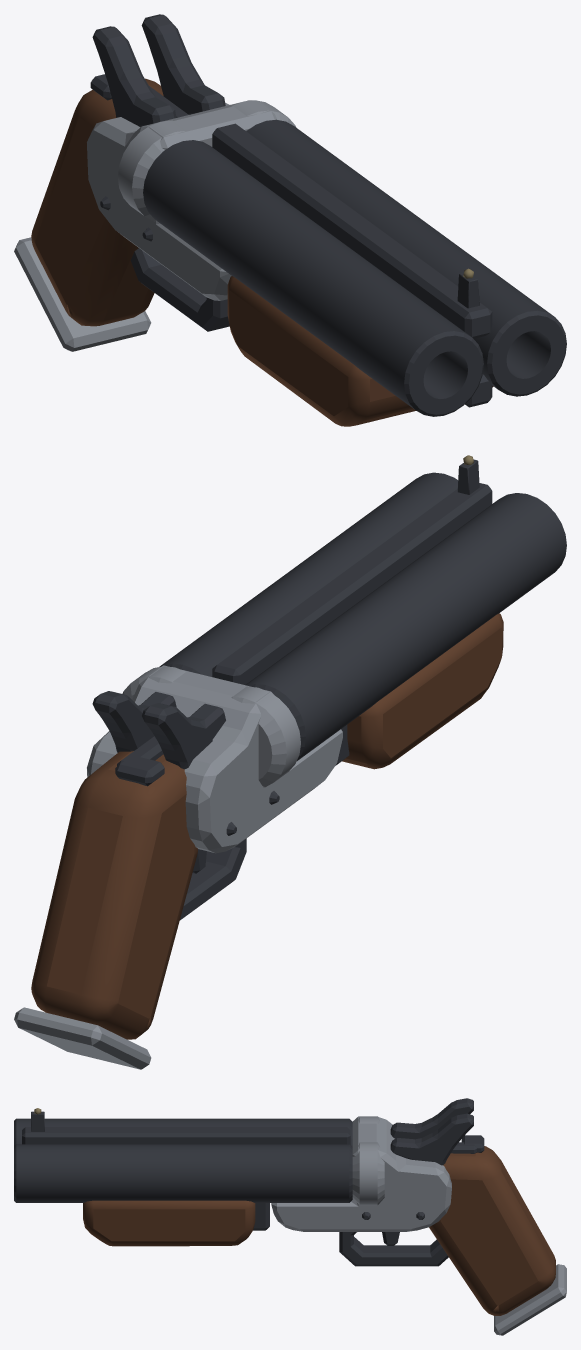
File: w_sawnoff@sawnoff_classic.glb
3 renders of one model, top to bottom at view 1: azimuth 30°, elevation 25°; view 2: azimuth 150°, elevation 25°; view 3: azimuth 270°, elevation 25°, orthographic. The views are drawn at different scales.
Parts seen in each view (by area): view 1: hinge_wzB__blue__p34373e, grip_wzA__wood__p5c3c29, body_wzB__silver__p858a92, forend_wzA__wood__p5c3c29, hammerR_wzN__blue__p34373e, hammerL_wzN__blue__p34373e, grip_wzN__silver__p858a92, body_wzN__blue__p34373e, body_wzB__blue__p34373e; view 2: hinge_wzB__blue__p34373e, grip_wzA__wood__p5c3c29, body_wzB__silver__p858a92, forend_wzA__wood__p5c3c29, grip_wzN__silver__p858a92, hammerR_wzN__blue__p34373e, body_wzN__blue__p34373e, hammerL_wzN__blue__p34373e, body_wzB__blue__p34373e; view 3: hinge_wzB__blue__p34373e, grip_wzA__wood__p5c3c29, body_wzB__silver__p858a92, forend_wzA__wood__p5c3c29, body_wzN__blue__p34373e, hammerL_wzN__blue__p34373e, grip_wzN__silver__p858a92, hammerR_wzN__blue__p34373e, body_wzB__blue__p34373e, forend_iron_wzN__blue__p34373e.
Boxes of the visible parts, x1=… form: hinge_wzB__blue__p34373e: x1=143, y1=119, x2=566, y2=416; grip_wzA__wood__p5c3c29: x1=31, y1=78, x2=163, y2=326; body_wzB__silver__p858a92: x1=87, y1=100, x2=296, y2=300; forend_wzA__wood__p5c3c29: x1=227, y1=276, x2=493, y2=426; hammerR_wzN__blue__p34373e: x1=92, y1=26, x2=176, y2=127; hammerL_wzN__blue__p34373e: x1=141, y1=14, x2=225, y2=114; grip_wzN__silver__p858a92: x1=14, y1=237, x2=151, y2=351; body_wzN__blue__p34373e: x1=100, y1=196, x2=229, y2=331; body_wzB__blue__p34373e: x1=90, y1=74, x2=188, y2=117; hinge_wzB__blue__p34373e: x1=159, y1=459, x2=566, y2=760; grip_wzA__wood__p5c3c29: x1=31, y1=751, x2=197, y2=1039; body_wzB__silver__p858a92: x1=87, y1=665, x2=342, y2=853; forend_wzA__wood__p5c3c29: x1=342, y1=613, x2=503, y2=769; grip_wzN__silver__p858a92: x1=14, y1=1007, x2=151, y2=1069; hammerR_wzN__blue__p34373e: x1=142, y1=703, x2=225, y2=769; body_wzN__blue__p34373e: x1=179, y1=791, x2=279, y2=920; hammerL_wzN__blue__p34373e: x1=92, y1=691, x2=176, y2=752; body_wzB__blue__p34373e: x1=115, y1=736, x2=164, y2=786; hinge_wzB__blue__p34373e: x1=14, y1=1111, x2=352, y2=1202; grip_wzA__wood__p5c3c29: x1=429, y1=1146, x2=555, y2=1315; body_wzB__silver__p858a92: x1=271, y1=1116, x2=451, y2=1231; forend_wzA__wood__p5c3c29: x1=83, y1=1200, x2=255, y2=1246; body_wzN__blue__p34373e: x1=339, y1=1212, x2=448, y2=1266; hammerL_wzN__blue__p34373e: x1=390, y1=1113, x2=473, y2=1165; grip_wzN__silver__p858a92: x1=494, y1=1264, x2=566, y2=1335; hammerR_wzN__blue__p34373e: x1=390, y1=1098, x2=473, y2=1139; body_wzB__blue__p34373e: x1=451, y1=1135, x2=484, y2=1153; forend_iron_wzN__blue__p34373e: x1=253, y1=1203, x2=269, y2=1230.
Size of the model in its own units: 0.11 by 0.2107 by 0.488.
